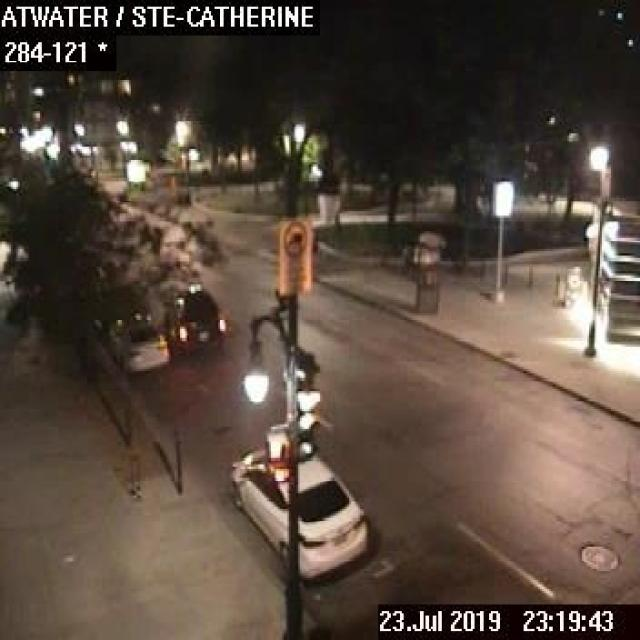vehicle: (229, 438, 371, 580), (170, 281, 226, 351), (108, 311, 166, 373)
